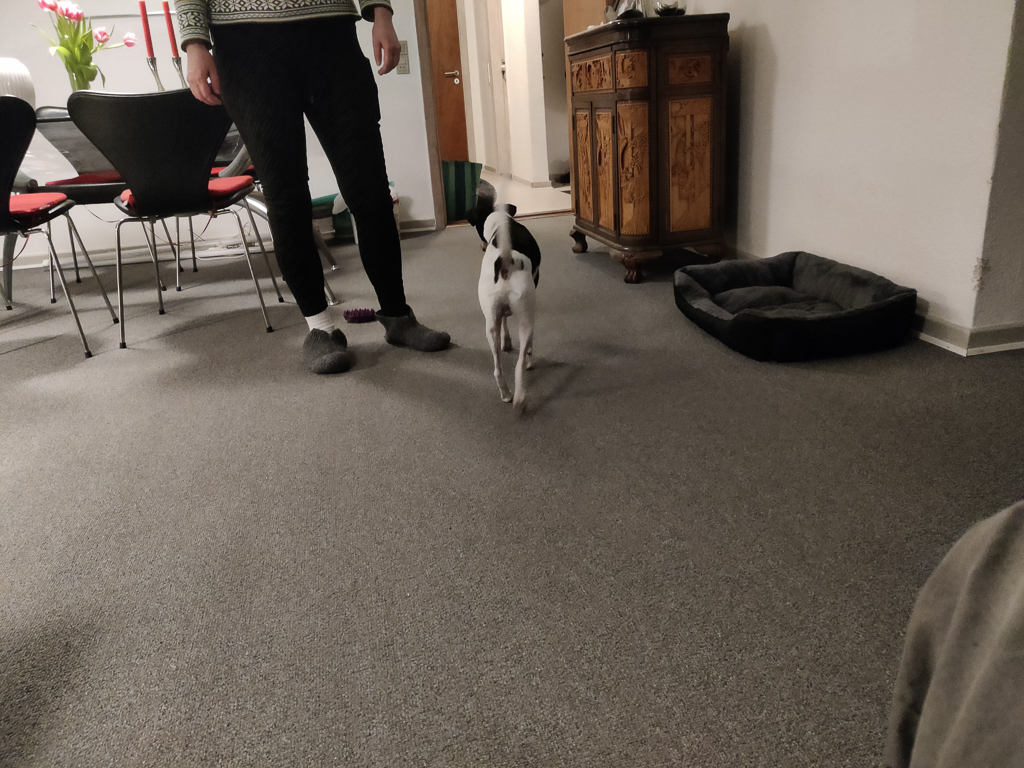Dog: (458, 172, 559, 429)
Humanoid: (167, 0, 464, 381)
